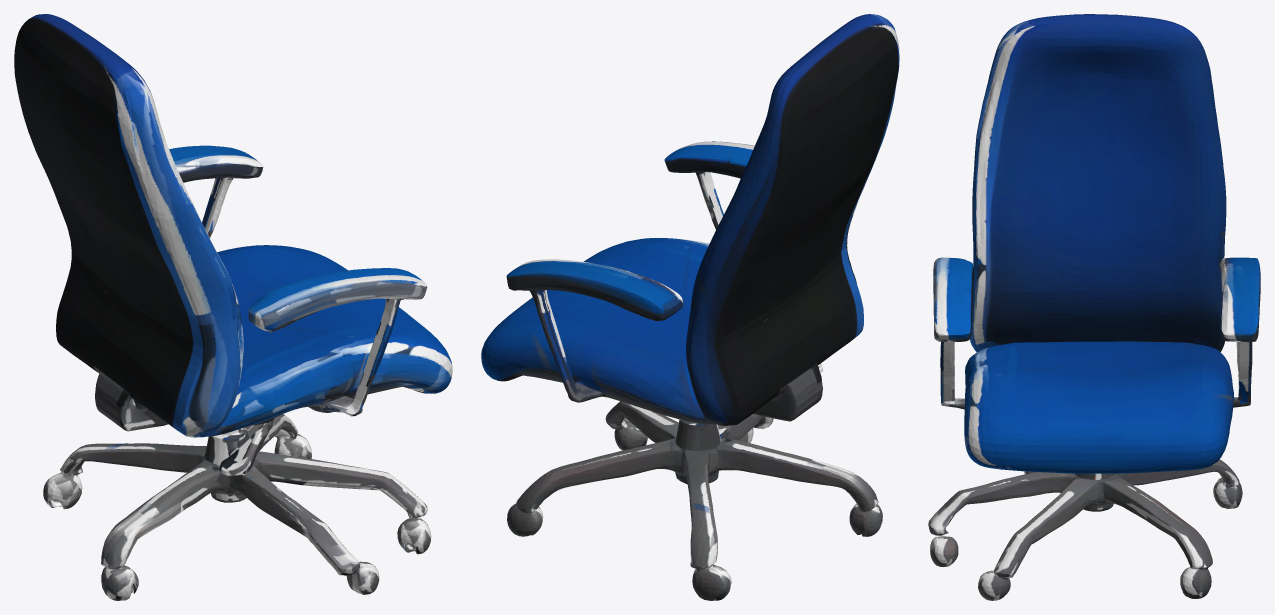
The model's file is computer_chair_46.obj.
3 views of the same model, side by side, from view 1: azimuth 30°, elevation 25°; view 2: azimuth 150°, elevation 25°; view 3: azimuth 270°, elevation 25° (orthographic). The views are drawn at different scales.
Size of the model in its own units: 0.7175 by 1.1 by 0.7103.
Materials: 1 (1 with a texture image).
